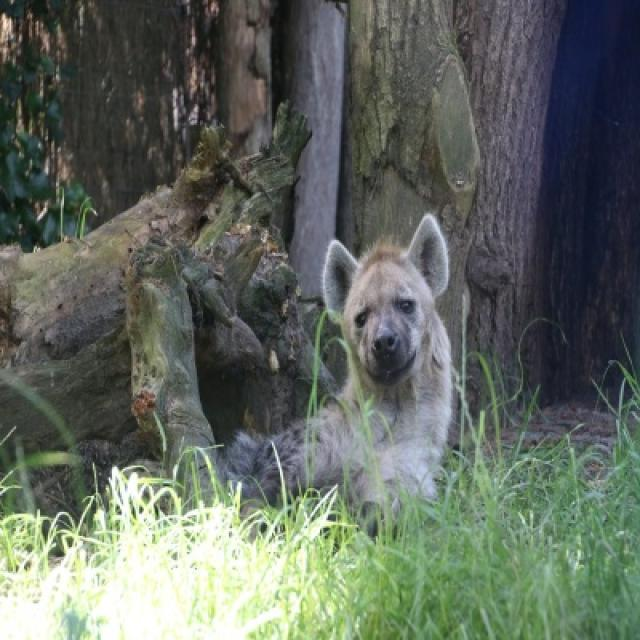hyena: (242, 216, 459, 534)
